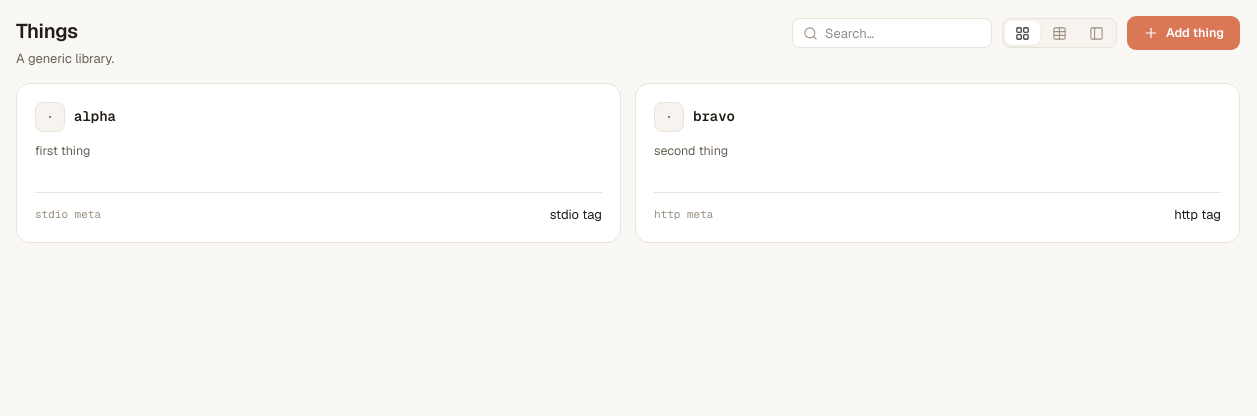
Scenario: Collection › switches the body when the view toggle changes
Click the radio button named "Table view" at (1059, 33), box x1=1042 y1=21 x2=1077 y2=45
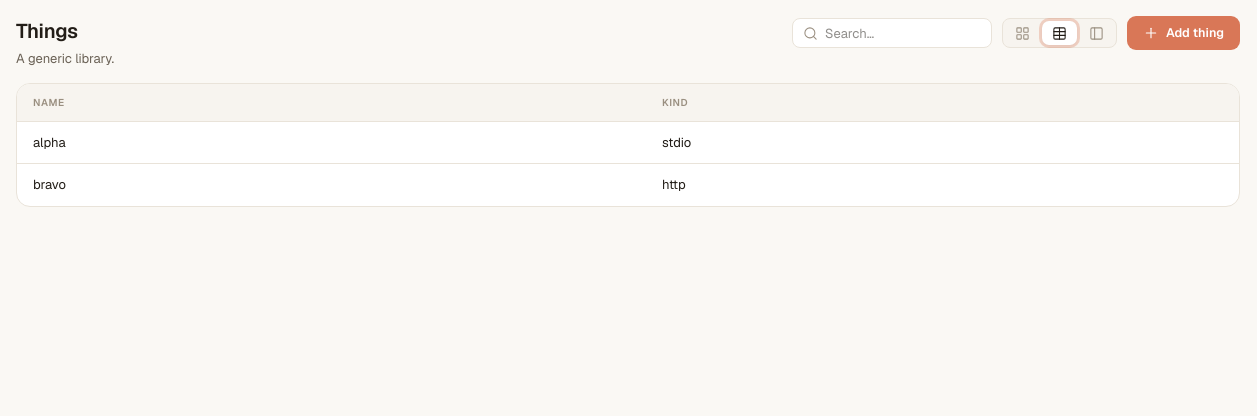
Now the table is shown, box x1=17 y1=84 x2=1239 y2=206
Click the radio button named "Master-detail view" at (1096, 33), box x1=1079 y1=21 x2=1114 y2=45
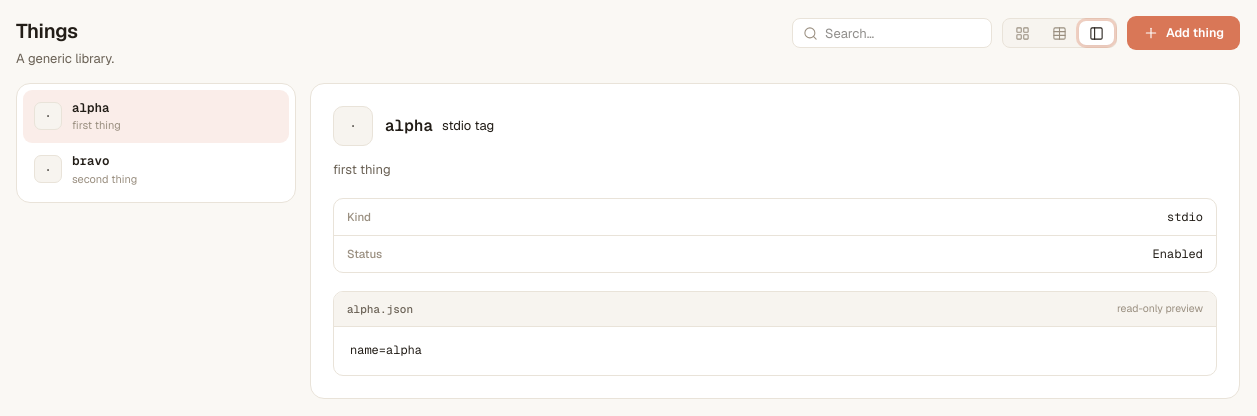
Now the list is shown, box x1=16 y1=82 x2=296 y2=203
Now the table is gone
